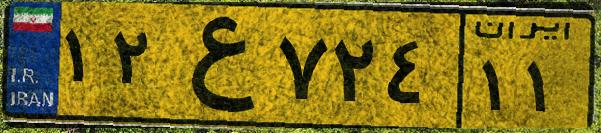1: (57, 26, 110, 100), (475, 38, 525, 113), (525, 38, 570, 115)
2: (330, 28, 385, 110), (110, 28, 158, 98)
4: (385, 28, 445, 110)
7: (270, 28, 330, 110)
ع: (158, 12, 270, 120)
